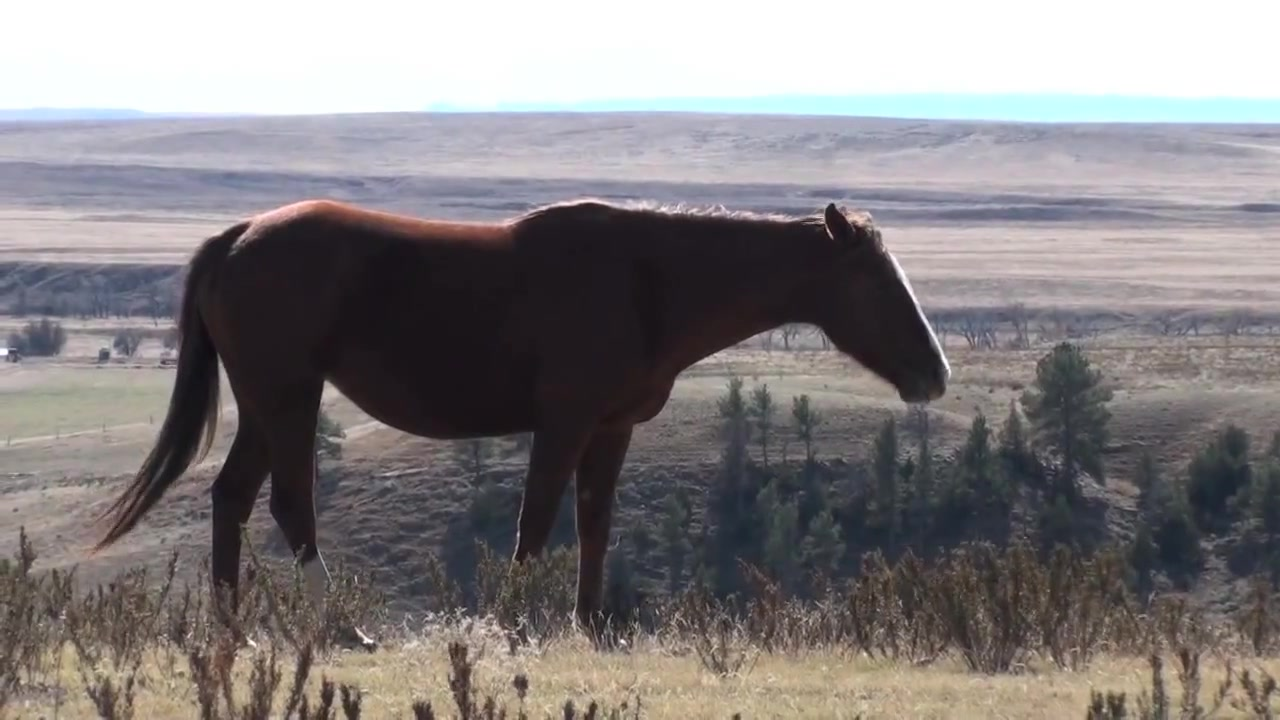horse: (90, 200, 955, 653)
